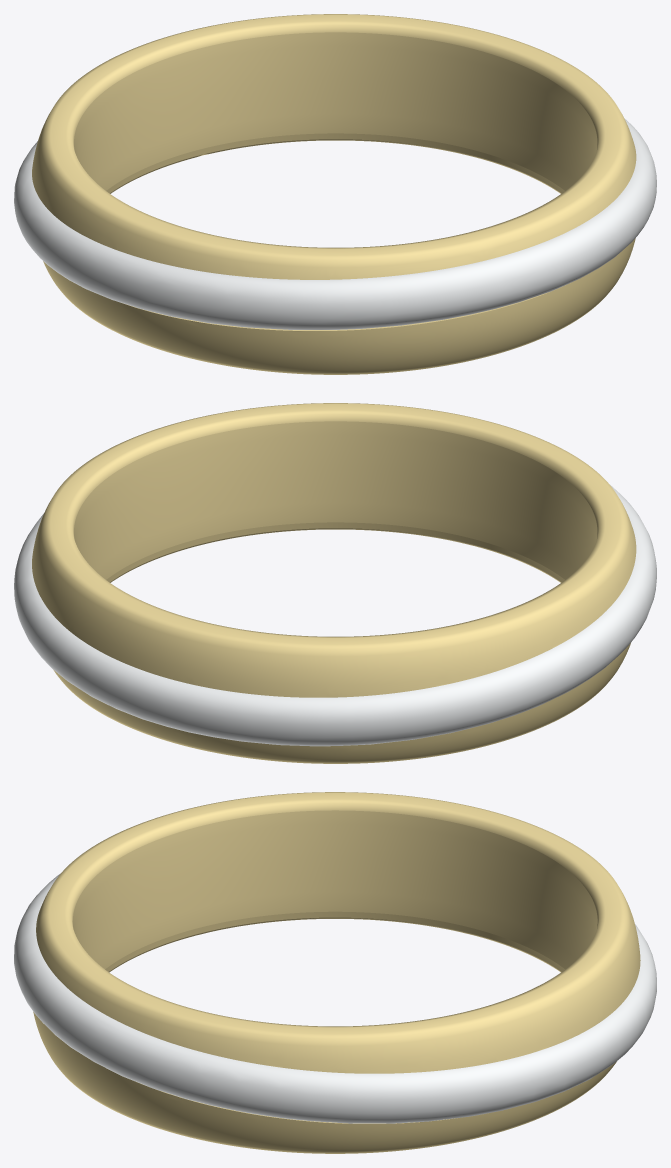
3 renders of one model, top to bottom at view 1: azimuth 30°, elevation 25°; view 2: azimuth 150°, elevation 25°; view 3: azimuth 270°, elevation 25°, orthographic.
Visible parts, largest first — view 1: Base_Metal, Engraving_Metal, Finishing_Metal; view 2: Base_Metal, Engraving_Metal, Finishing_Metal; view 3: Base_Metal, Engraving_Metal, Finishing_Metal.
Boxes of the visible parts, x1,y1,x2,y2 form: Base_Metal: [32, 14, 636, 374]; Engraving_Metal: [74, 32, 597, 190]; Finishing_Metal: [14, 118, 656, 329]; Base_Metal: [32, 403, 636, 763]; Engraving_Metal: [74, 421, 597, 579]; Finishing_Metal: [14, 485, 656, 746]; Base_Metal: [33, 792, 640, 1153]; Engraving_Metal: [72, 810, 597, 969]; Finishing_Metal: [14, 873, 656, 1123].
Size of the model in its own units: 2.48 by 0.5009 by 2.47.
